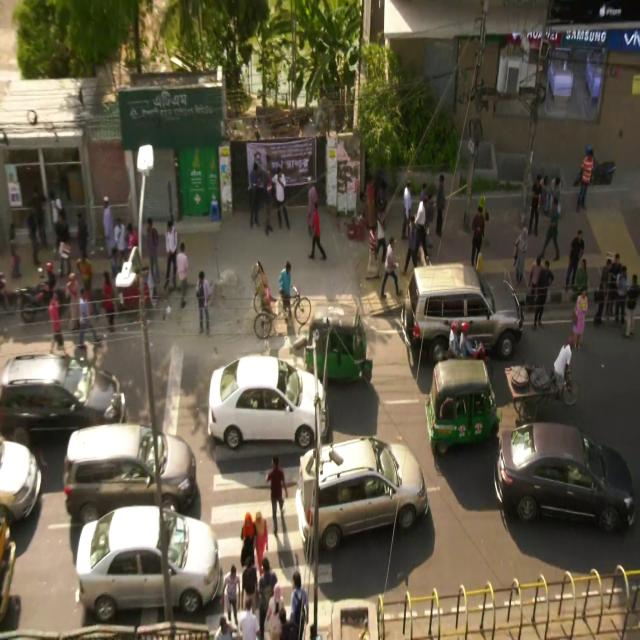black: (497, 426, 636, 543), (63, 424, 196, 511), (0, 351, 124, 434)
silver: (78, 512, 222, 613), (297, 441, 431, 541), (409, 259, 525, 356)
white: (209, 355, 327, 445)
